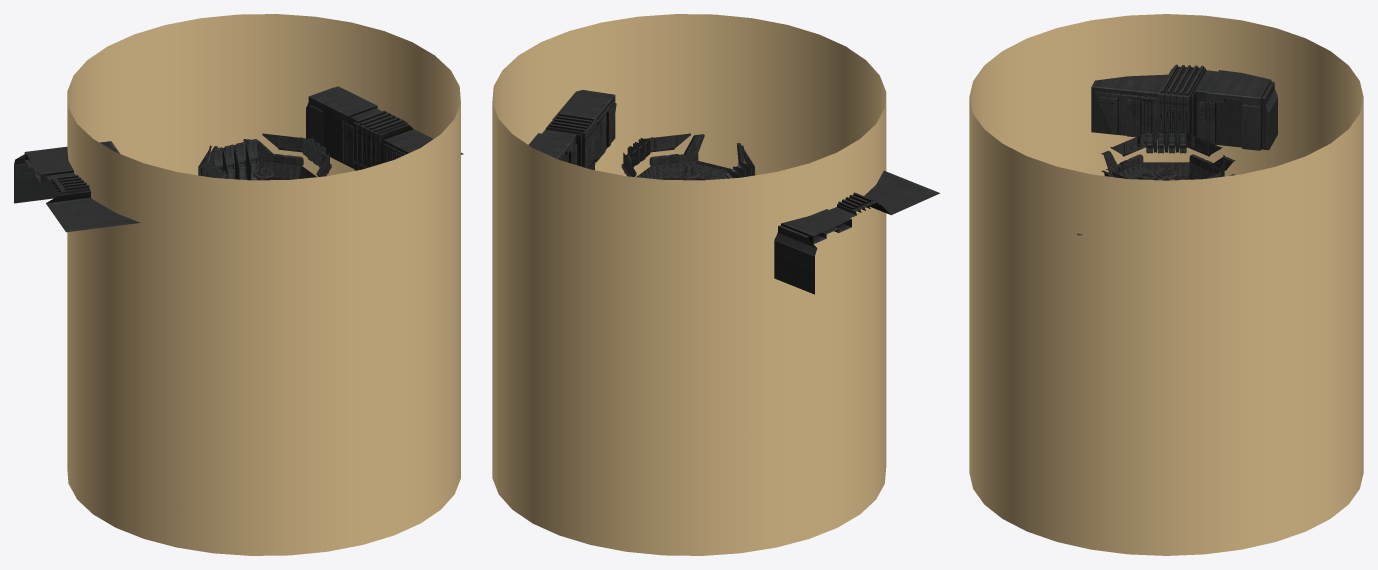
Rendered from env_nur_interrogation_01_pre.glb.
3 views of the same model, side by side, from view 1: azimuth 30°, elevation 25°; view 2: azimuth 150°, elevation 25°; view 3: azimuth 270°, elevation 25° (orthographic).
Parts seen in each view (by area): view 1: gen_bg_mesh, nur_interrogation_wall_01 (1) (×2), nur_interrogation_wall_02; view 2: gen_bg_mesh, nur_interrogation_wall_01 (1) (×2); view 3: gen_bg_mesh, nur_interrogation_wall_01 (1), nur_interrogation_wall_02.
Part boxes in pixels (bbox=[...]): gen_bg_mesh: bbox=[67, 14, 460, 555]; nur_interrogation_wall_01 (1) (×2): bbox=[14, 86, 463, 232]; nur_interrogation_wall_02: bbox=[255, 161, 301, 179]; gen_bg_mesh: bbox=[492, 14, 886, 555]; nur_interrogation_wall_01 (1) (×2): bbox=[528, 90, 939, 294]; gen_bg_mesh: bbox=[969, 14, 1363, 555]; nur_interrogation_wall_01 (1): bbox=[1091, 64, 1277, 150]; nur_interrogation_wall_02: bbox=[1142, 162, 1189, 176].
Size of the model in its own units: 231 by 210 by 200.
Materials: 13 (13 with a texture image).
